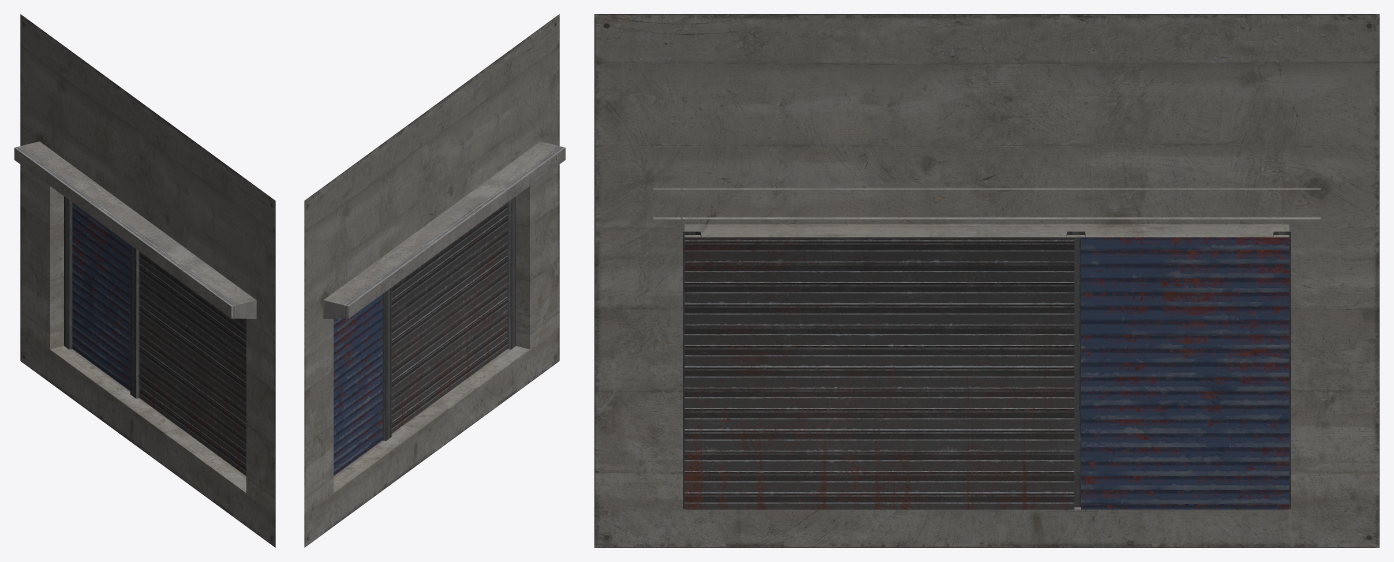
Rendered from CP_Showcase_A_4x3m_01.fbx.
3 renders of one model, left to right at view 1: azimuth 30°, elevation 25°; view 2: azimuth 150°, elevation 25°; view 3: azimuth 270°, elevation 25°, orthographic. The views are drawn at different scales.
Parts seen in each view (by area): view 1: CP_Showcase_A_4x3m_01; view 2: CP_Showcase_A_4x3m_01; view 3: CP_Showcase_A_4x3m_01.
Part boxes in pixels (box(x1,y1,x2,y2)): CP_Showcase_A_4x3m_01: box(14, 14, 275, 547); CP_Showcase_A_4x3m_01: box(304, 14, 565, 547); CP_Showcase_A_4x3m_01: box(594, 14, 1379, 547).
Size of the model in its own units: 39.18 by 300 by 400.
